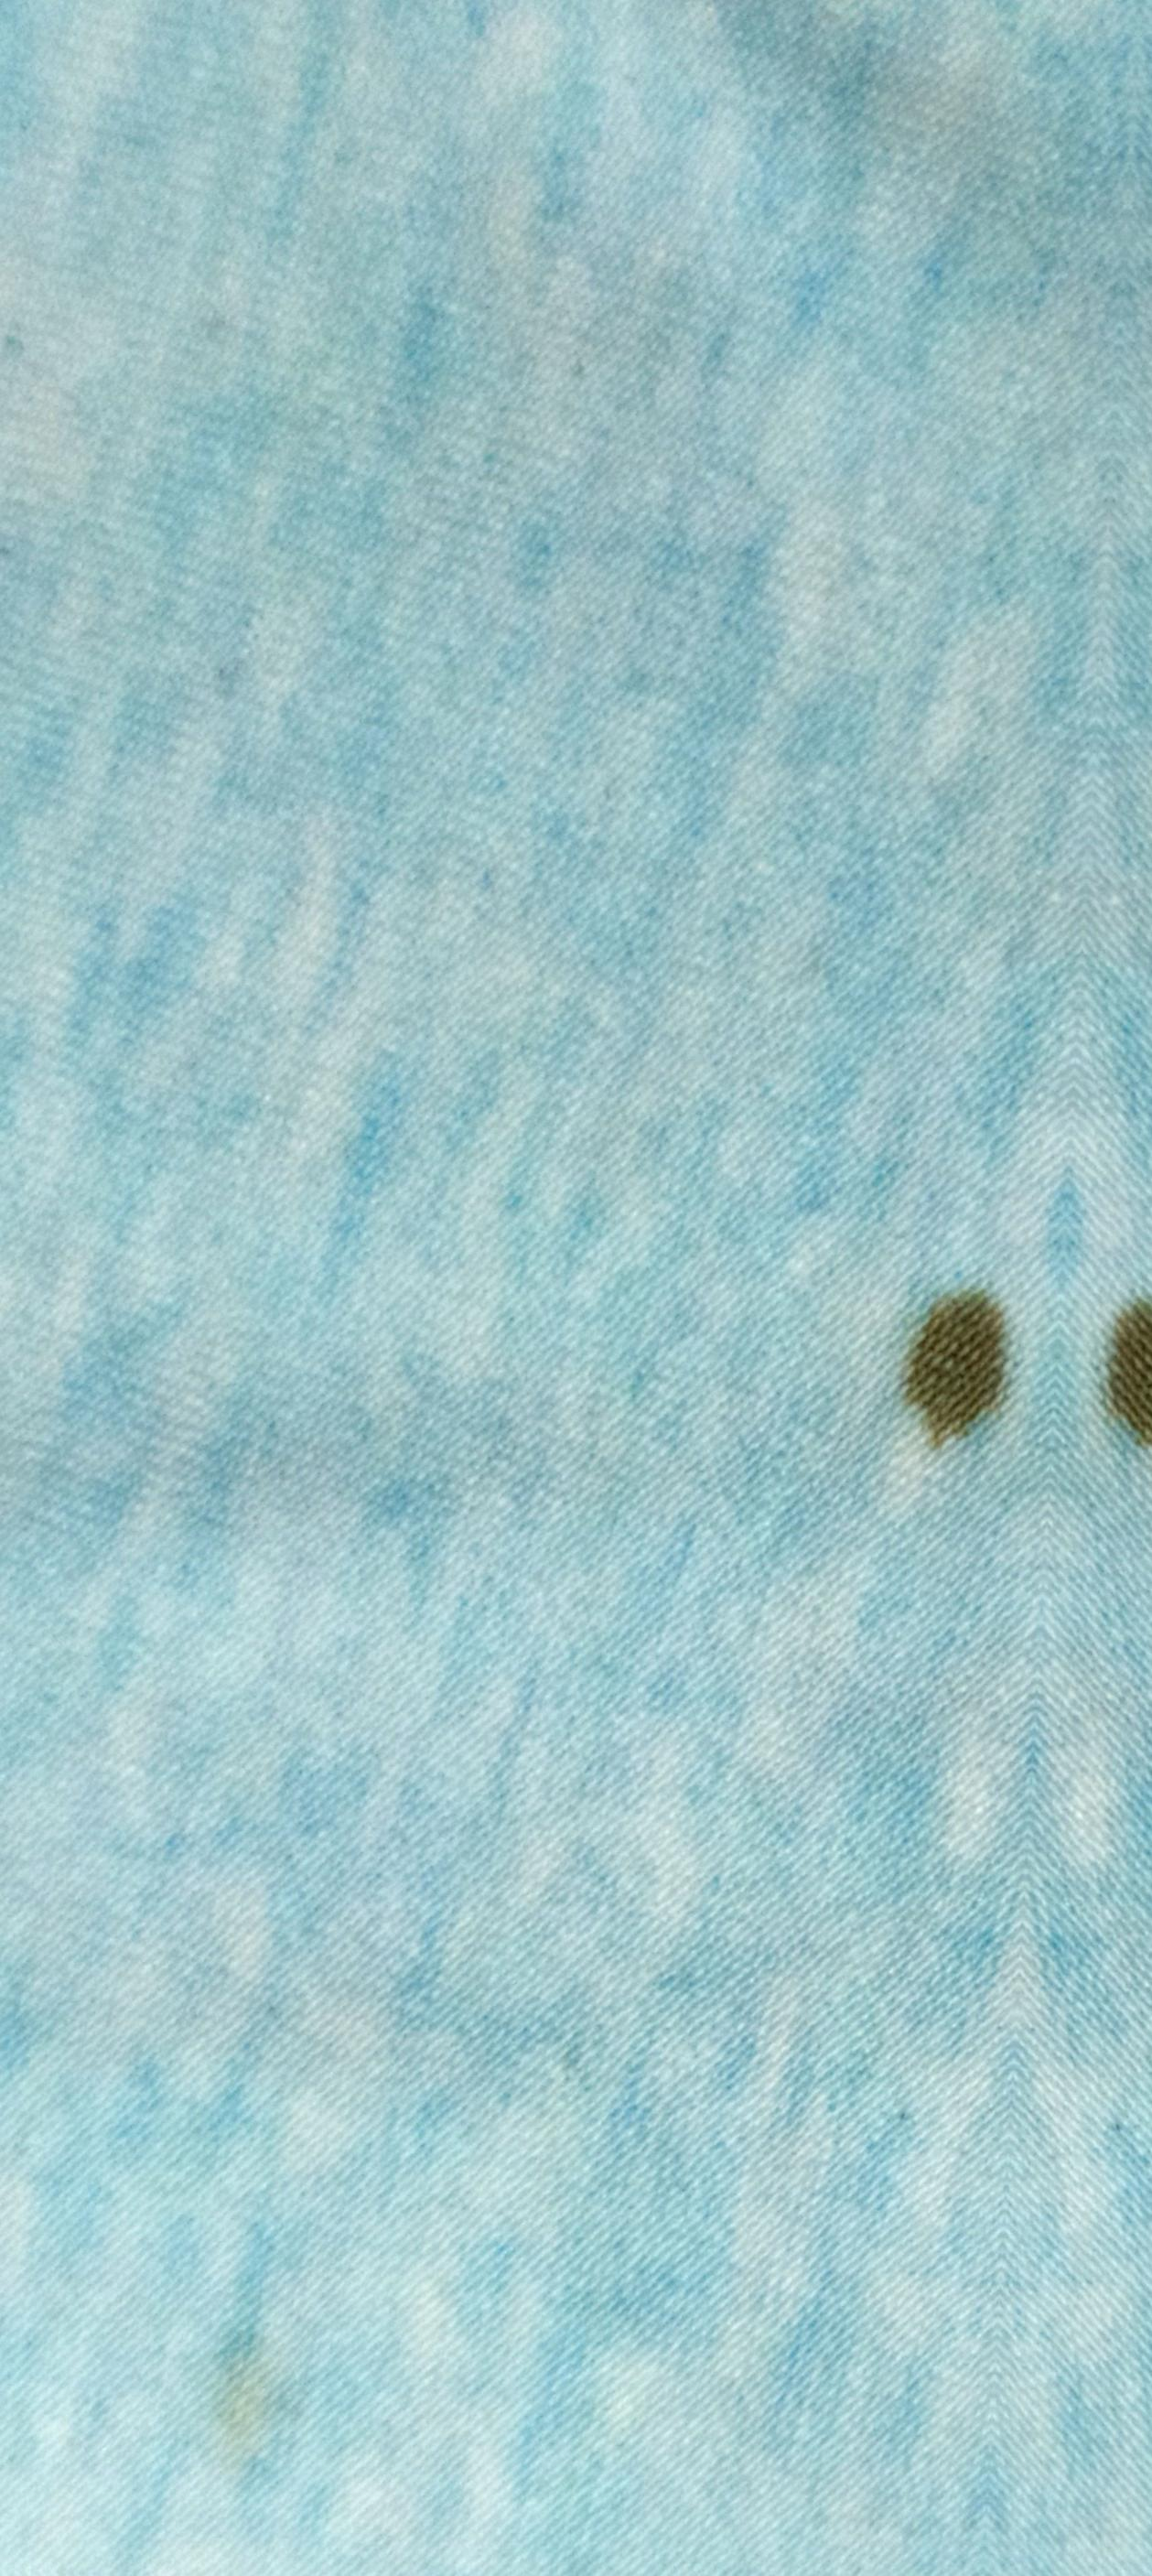stain: (882, 1283, 1016, 1464), (1090, 1273, 1152, 1469)
